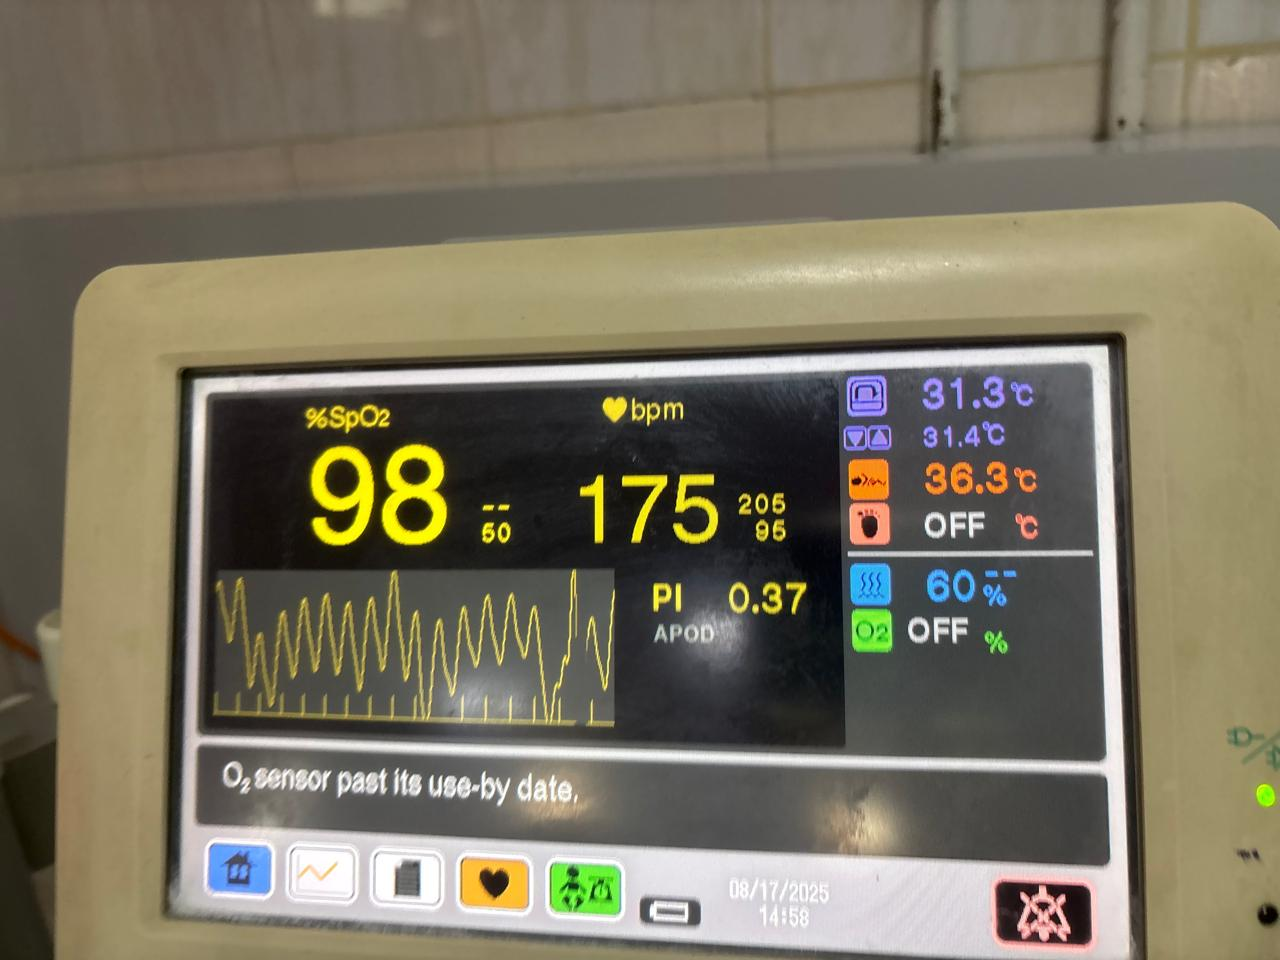heart_rate_value: (563, 463, 736, 545)
humidity_value: (918, 560, 983, 609)
skin_temp_value: (910, 454, 1011, 506)
spo2_value: (288, 438, 462, 554)
